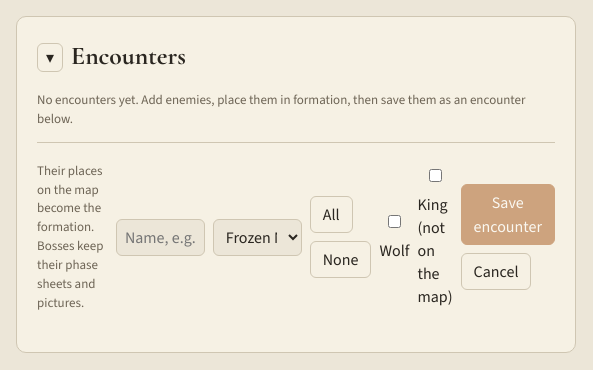
Test: Encounters panel › saves picked enemies (phase sheets come along, not listed)
Earlier steps of the test are not shown.
expect the number of checkboxes is 2: met, box [384,215,406,228]; [422,169,450,182]
expect the element named "New encounter" shows "King (not on the map)": met, box [37,142,555,332]
Step 1. Type "Ambush" into the field named "Encounter name" → point(160, 237), box [116,219,205,256]
Step 2. Select "Sky City" in the dropdown named "Encounter region" → point(257, 237), box [213,219,302,256]
Step 3. Click the button "All" → point(331, 215), box [310,196,353,233]
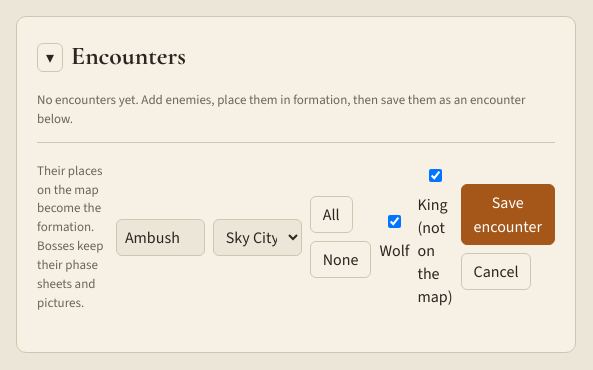
Step 4. Click the button "None" → point(341, 260), box [310,241,372,278]
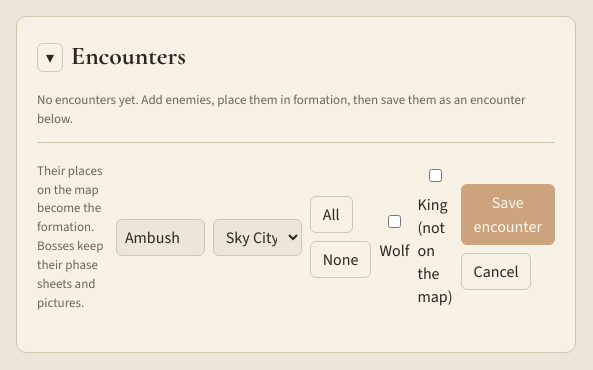
Step 5. Click the checkbox labelled "Wolf" → point(395, 222), box [384,215,406,228]
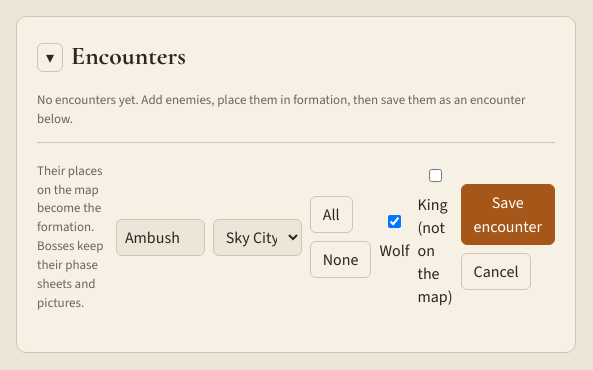
Step 6. Click the checkbox labelled "King (not on the map)" → point(436, 175), box [422,169,450,182]
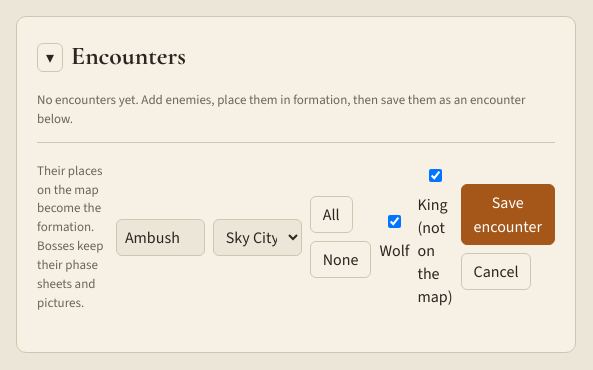
Step 7. Click the checkbox labelled "King (not on the map)" → point(436, 175), box [422,169,450,182]
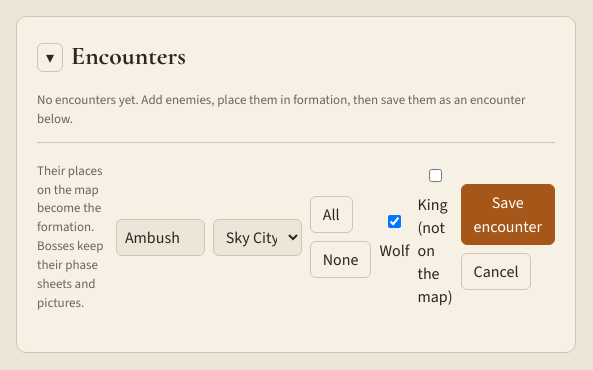
Step 8. Click the button "Save encounter" → point(508, 215), box [460,184,555,245]
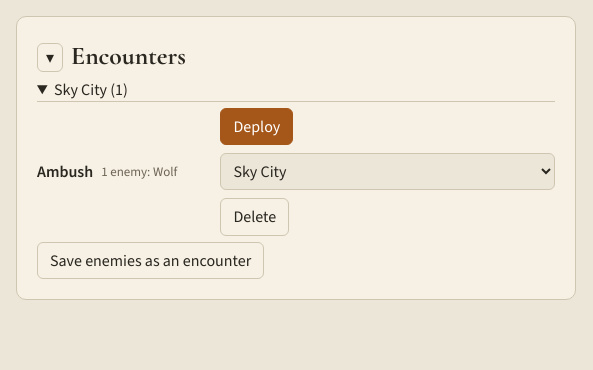
expect the element named "Region Sky City" shows "Ambush": met, box [37,161,93,182]
